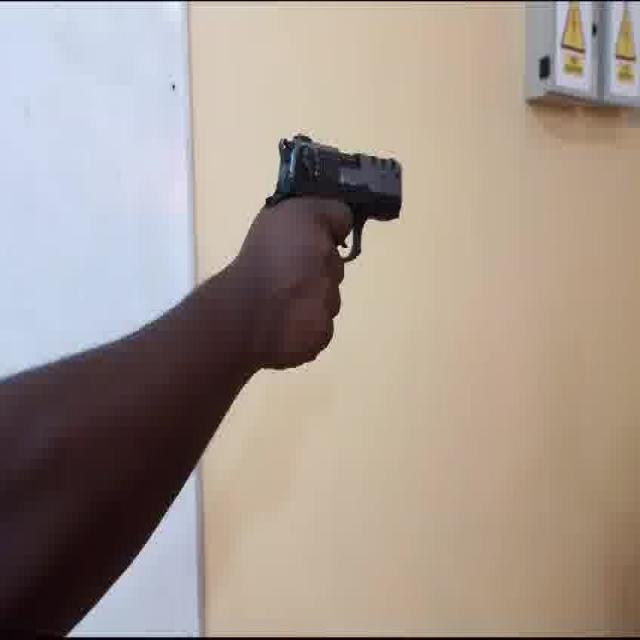weapon: (268, 130, 402, 262)
